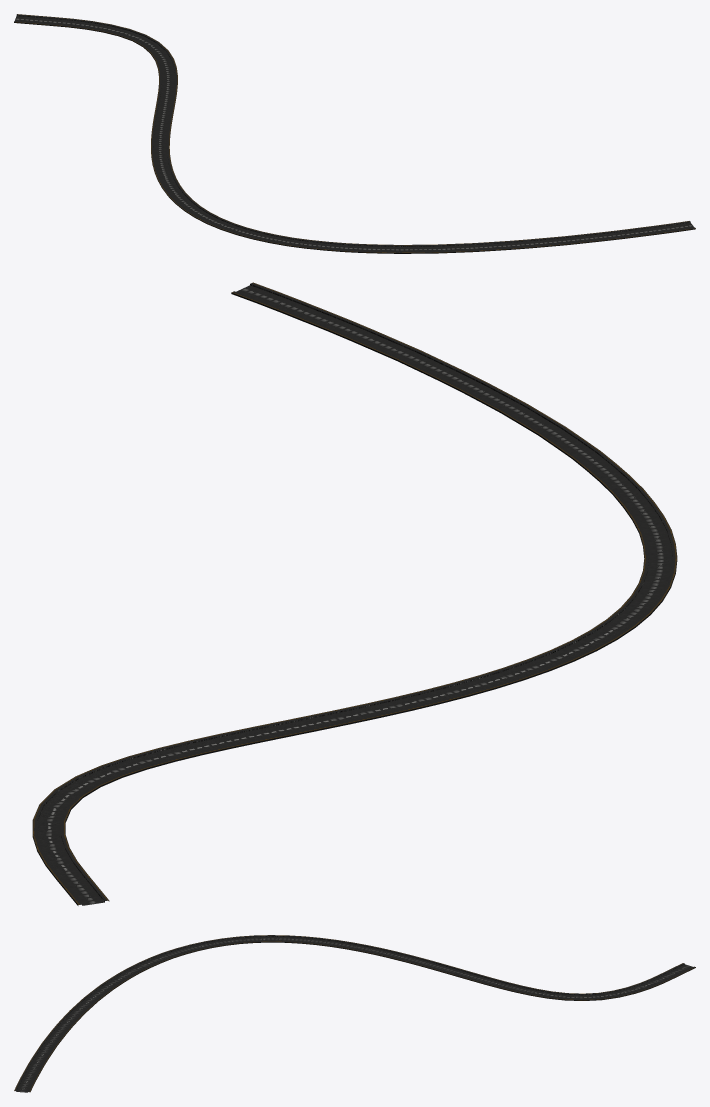
File: Road.fbx
3 renders of one model, top to bottom at view 1: azimuth 30°, elevation 25°; view 2: azimuth 150°, elevation 25°; view 3: azimuth 270°, elevation 25°, orthographic. The views are drawn at different scales.
Visible parts, largest first — view 1: Plane.001; view 2: Plane.001; view 3: Plane.001.
Boxes of the visible parts, x1,y1,x2,y2 form: Plane.001: (14, 14, 695, 253); Plane.001: (32, 282, 677, 905); Plane.001: (14, 935, 695, 1092).
Bounding box in the file's own units: 4494 × 12.41 × 8232.
Materials: 1 (1 with a texture image).
